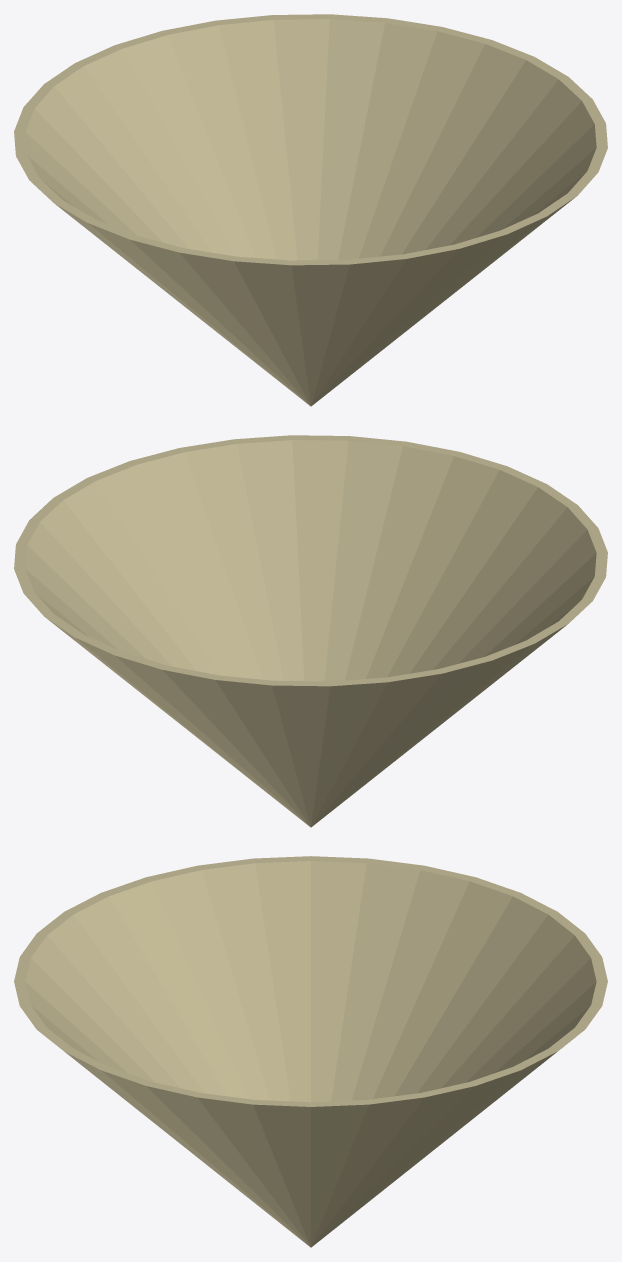
3 renders of one model, top to bottom at view 1: azimuth 30°, elevation 25°; view 2: azimuth 150°, elevation 25°; view 3: azimuth 270°, elevation 25°, orthographic.
Visible parts, largest first — view 1: Cone_WP_001; view 2: Cone_WP_001; view 3: Cone_WP_001.
Boxes of the visible parts, bbox=[...] form: Cone_WP_001: bbox=[14, 14, 607, 406]; Cone_WP_001: bbox=[14, 435, 607, 827]; Cone_WP_001: bbox=[14, 856, 607, 1247].
Size of the model in its own units: 0.5313 by 0.5315 by 0.2629.
